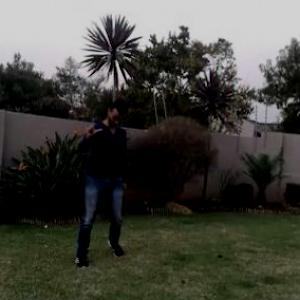land_hand: (80, 114, 102, 140)
